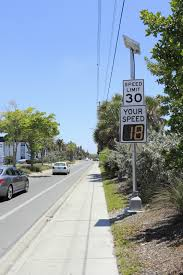speedLimit30: (122, 78, 146, 106)
